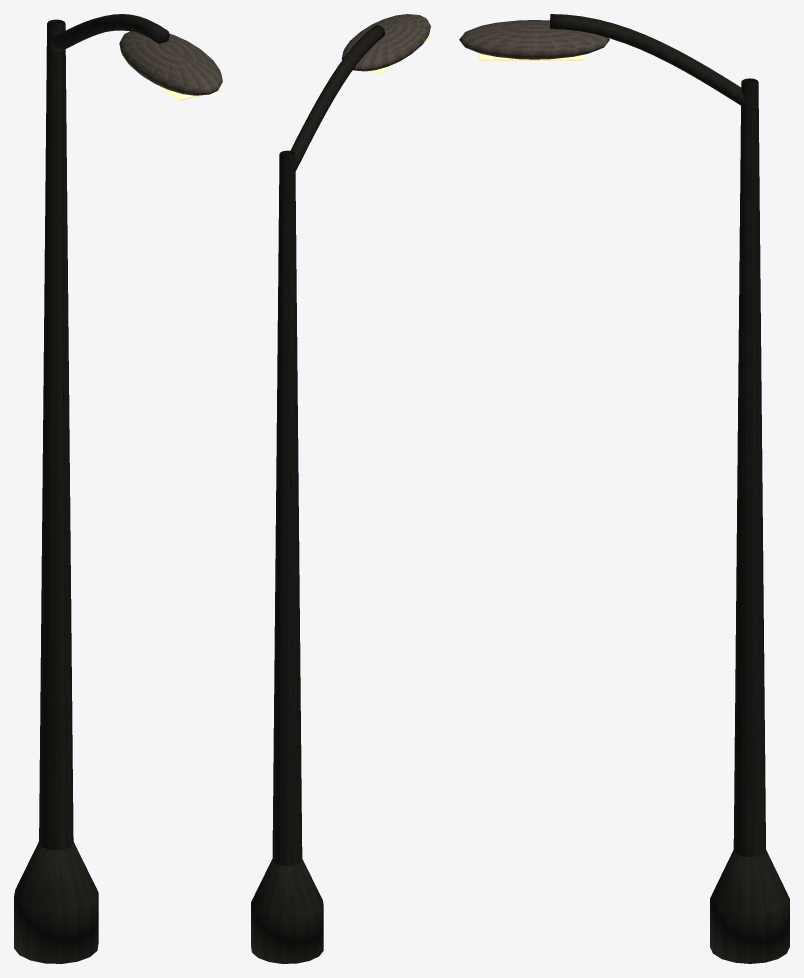
File: den_duong_01.glb
3 views of the same model, side by side, from view 1: azimuth 30°, elevation 25°; view 2: azimuth 150°, elevation 25°; view 3: azimuth 270°, elevation 25° (orthographic). The views are drawn at different scales.
Visible parts, largest first — view 1: den_duong_01.001; view 2: den_duong_01.001; view 3: den_duong_01.001.
Part boxes in pixels (box(x1,y1,x2,y2)): den_duong_01.001: box(14, 14, 222, 963); den_duong_01.001: box(251, 14, 430, 963); den_duong_01.001: box(459, 14, 789, 963).
Bounding box in the file's own units: 0.36 × 4.63 × 1.49.
1 material, 1 textured.
